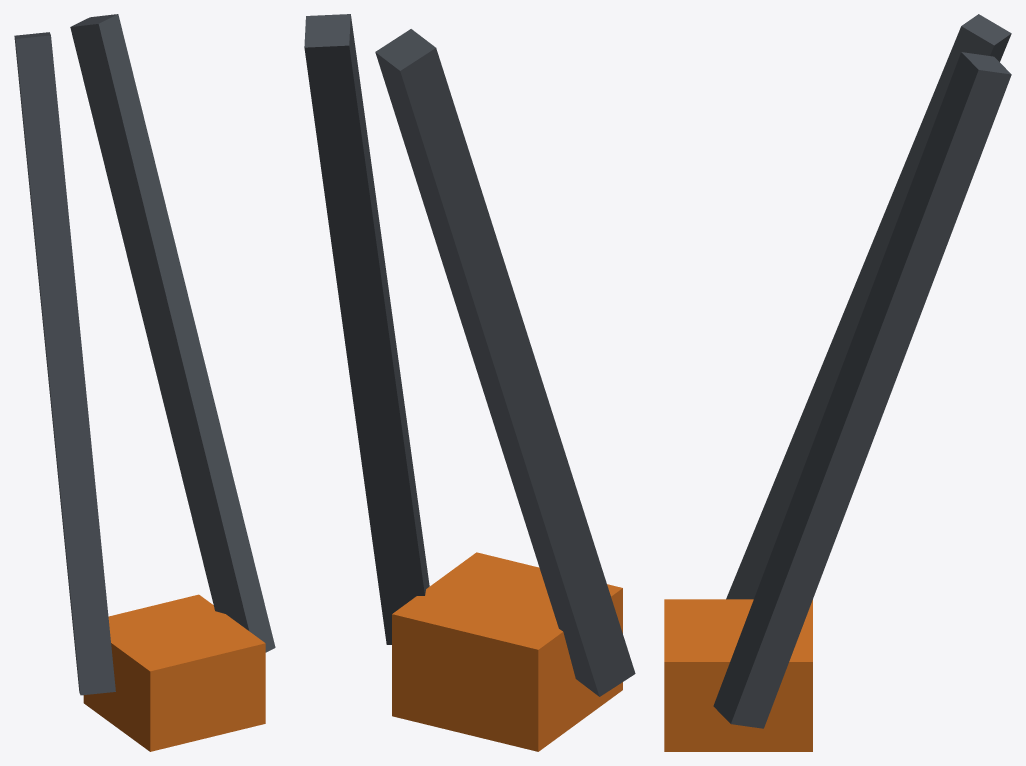
File: tool_tongs.glb
The picture shows the model from 3 angles, left to right: view 1: azimuth 30°, elevation 25°; view 2: azimuth 150°, elevation 25°; view 3: azimuth 270°, elevation 25°; orthographic projection. The views are drawn at different scales.
Parts seen in each view (by area): view 1: tool_tongs; view 2: tool_tongs; view 3: tool_tongs.
Part boxes in pixels (x1,y1,x2,y2): tool_tongs: (14,14,275,751); tool_tongs: (304,14,635,751); tool_tongs: (664,14,1011,751).
Bounding box in the file's own units: 0.0507 × 0.1517 × 0.0701.
